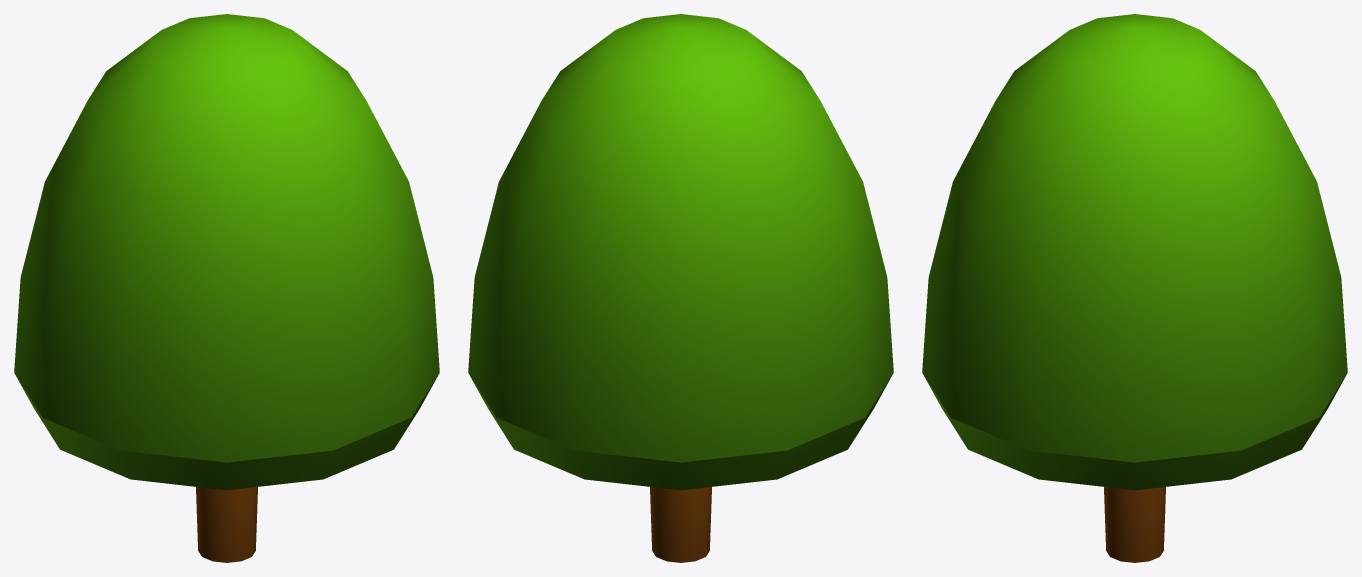
File: Farm_Crop_Tree_03.fbx
3 views of the same model, side by side, from view 1: azimuth 30°, elevation 25°; view 2: azimuth 150°, elevation 25°; view 3: azimuth 270°, elevation 25° (orthographic).
Parts seen in each view (by area): view 1: Farm_Crop_Tree_03; view 2: Farm_Crop_Tree_03; view 3: Farm_Crop_Tree_03.
Boxes of the visible parts, left/top/right/bottom form: Farm_Crop_Tree_03: left=14, top=14, right=439, bottom=562; Farm_Crop_Tree_03: left=468, top=14, right=893, bottom=562; Farm_Crop_Tree_03: left=922, top=14, right=1347, bottom=562.
Size of the model in its own units: 176 by 238 by 176.
